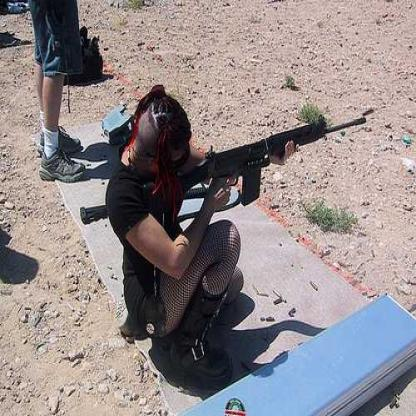rifle: (74, 89, 379, 247)
